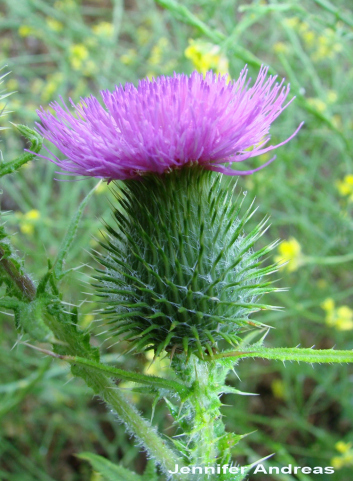thistle: (29, 70, 290, 365)
